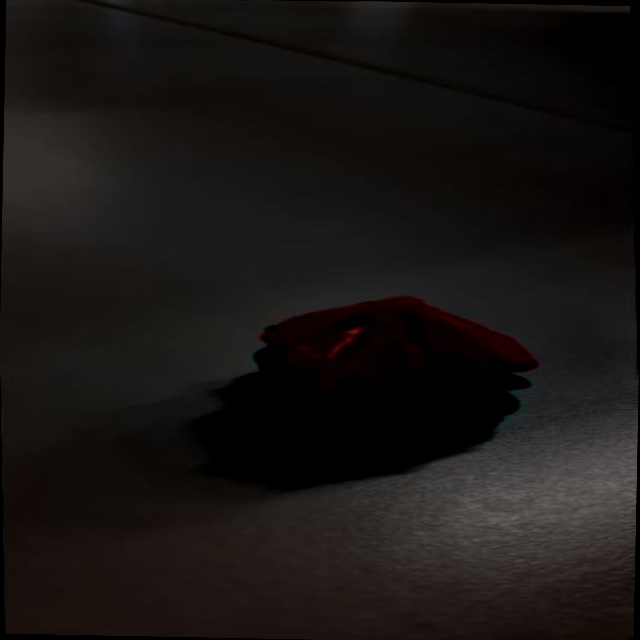House: (227, 291, 544, 443)
